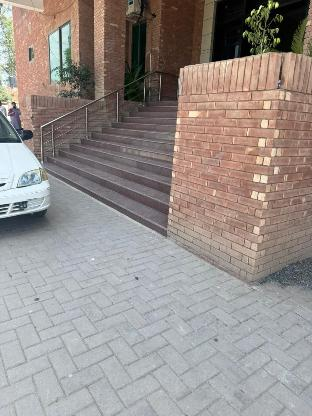stair: (72, 104, 173, 225)
